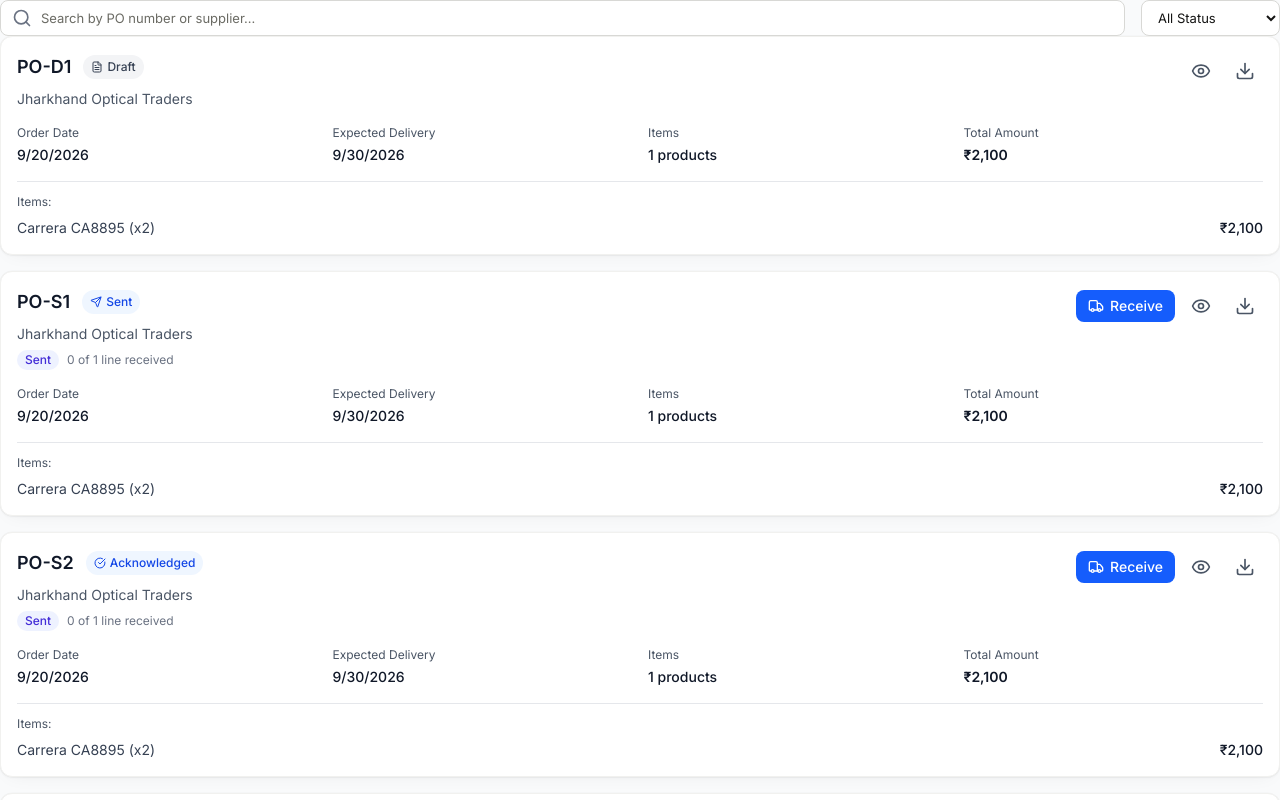
Test: PO list status filter (F23) › Partly received finds the part-delivered orders
Check: the button "PO-D1" is shown, box [17,53,71,81]
Select "Partly received" in the dropdown named "status": (1210, 18) [1141,0,1279,36]
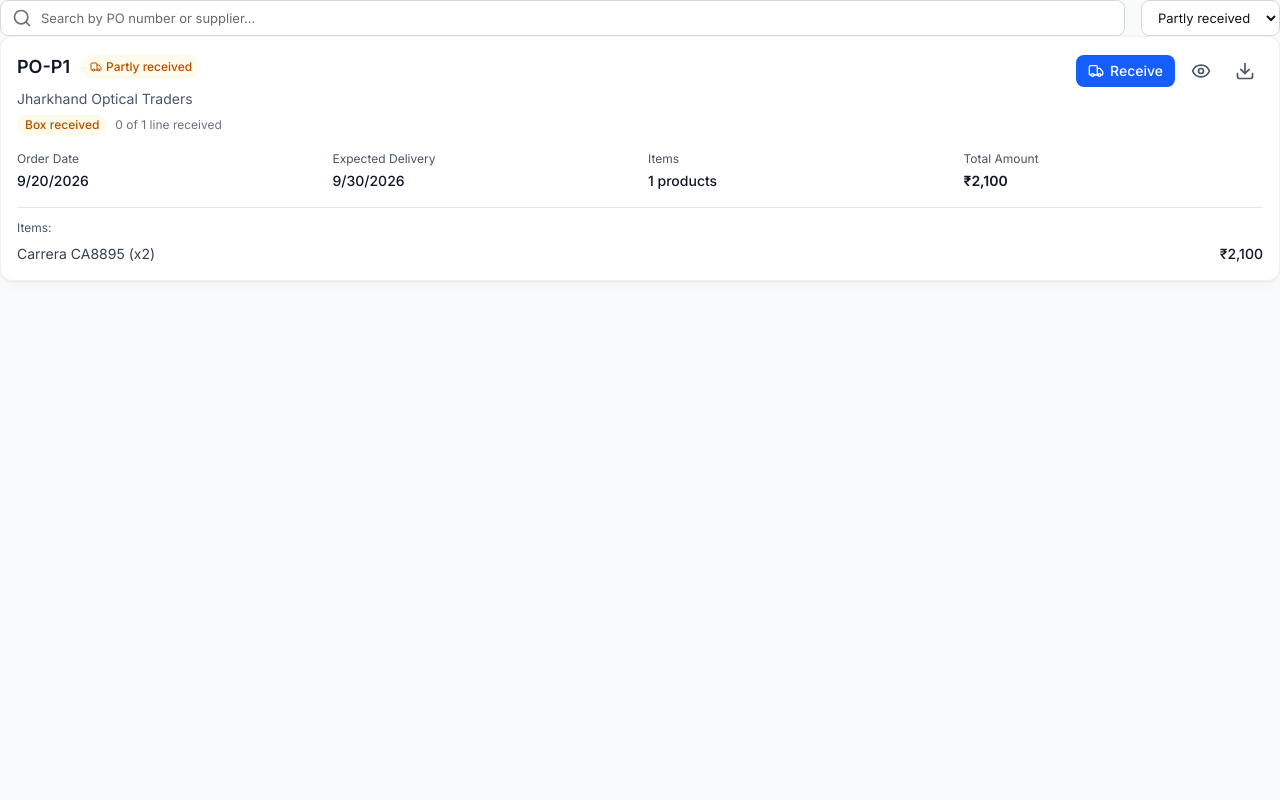
Check: the button "PO-P1" is shown, box [17,53,70,81]
Check: the button "PO-S1" is gone
